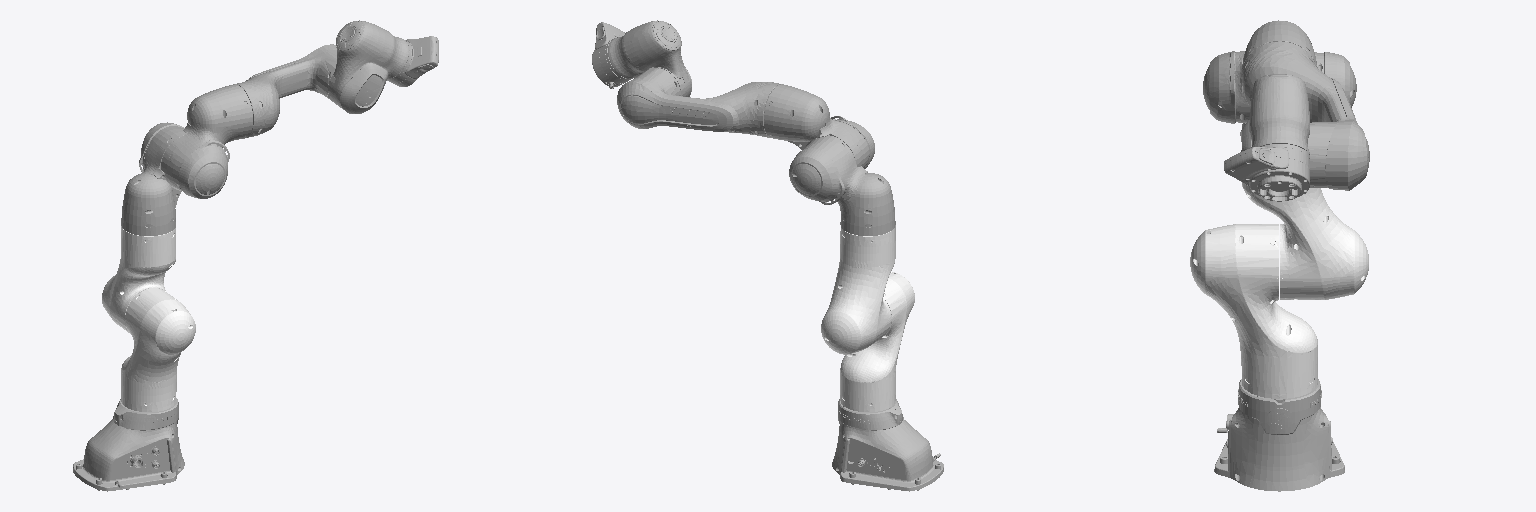
URDF robot description (FR3_UpperLimbRehab):
<?xml version="1.0" encoding="utf-8"?>
<!-- This URDF was automatically created by SolidWorks to URDF Exporter! Originally created by [author] ([email redacted]) 
     Commit Version: 1.6.0-4-g7f85cfe  Build Version: 1.6.7995.38578
     For more information, please see http://wiki.ros.org/sw_urdf_exporter -->
<robot
  name="FR3_UpperLimbRehab">
  <link
    name="FR3_Base_Link">
    <inertial>
      <origin
        xyz="0.041018 -0.00014 0.049974"
        rpy="0 0 0" />
      <mass
        value="0.62977" />
      <inertia
        ixx="0.00315"
        ixy="8.2904E-07"
        ixz="0.00015"
        iyy="0.00388"
        iyz="8.2299E-06"
        izz="0.004285" />
    </inertial>
    <visual>
      <origin
        xyz="0 0 0"
        rpy="0 0 0" />
      <geometry>
        <mesh
          filename="package://FR3_UpperLimbRehab/meshes/FR3_Base_Link.STL" />
      </geometry>
      <material
        name="">
        <color
          rgba="0.75294 0.75294 0.75294 1" />
      </material>
    </visual>
    <collision>
      <origin
        xyz="0 0 0"
        rpy="0 0 0" />
      <geometry>
        <mesh
          filename="package://FR3_UpperLimbRehab/meshes/FR3_Base_Link.STL" />
      </geometry>
    </collision>
  </link>
  <link
    name="FR3_Link_1">
    <inertial>
      <origin
        xyz="0.003875 0.002081 -0.04762"
        rpy="0 0 0" />
      <mass
        value="4.970684" />
      <inertia
        ixx="0.70337"
        ixy="-0.00013900"
        ixz="0.0067720"
        iyy="0.70661"
        iyz="0.019169"
        izz="0.0091170" />
    </inertial>
    <visual>
      <origin
        xyz="0 0 0"
        rpy="0 0 0" />
      <geometry>
        <mesh
          filename="package://FR3_UpperLimbRehab/meshes/FR3_Link_1.STL" />
      </geometry>
      <material
        name="">
        <color
          rgba="1 1 1 1" />
      </material>
    </visual>
    <collision>
      <origin
        xyz="0 0 0"
        rpy="0 0 0" />
      <geometry>
        <mesh
          filename="package://FR3_UpperLimbRehab/meshes/FR3_Link_1.STL" />
      </geometry>
    </collision>
  </link>
  <joint
    name="RevoluteJoint_1"
    type="revolute">
    <origin
      xyz="0 0 0.333"
      rpy="0 0 0" />
    <parent
      link="FR3_Base_Link" />
    <child
      link="FR3_Link_1" />
    <axis
      xyz="0 0 1" />
    <limit
      lower="-2.7437"
      upper="2.7437"
      effort="87"
      velocity="2.62" />
  </joint>
  <link
    name="FR3_Link_2">
    <inertial>
      <origin
        xyz="-0.003141 -0.02872 0.003495"
        rpy="0 0 0" />
      <mass
        value="0.646926" />
      <inertia
        ixx="0.0079620"
        ixy="-3.9250E-03"
        ixz="1.0254E-02"
        iyy="2.8110E-02"
        iyz="7.04E-04"
        izz="2.5995E-02" />
    </inertial>
    <visual>
      <origin
        xyz="0 0 0"
        rpy="0 0 0" />
      <geometry>
        <mesh
          filename="package://FR3_UpperLimbRehab/meshes/FR3_Link_2.STL" />
      </geometry>
      <material
        name="">
        <color
          rgba="1 1 1 1" />
      </material>
    </visual>
    <collision>
      <origin
        xyz="0 0 0"
        rpy="0 0 0" />
      <geometry>
        <mesh
          filename="package://FR3_UpperLimbRehab/meshes/FR3_Link_2.STL" />
      </geometry>
    </collision>
  </link>
  <joint
    name="RevoluteJoint_2"
    type="revolute">
    <origin
      xyz="0 0 0"
      rpy="-1.5708 0 0" />
    <parent
      link="FR3_Link_1" />
    <child
      link="FR3_Link_2" />
    <axis
      xyz="0 0 1" />
    <limit
      lower="-1.7837"
      upper="1.7837"
      effort="87"
      velocity="2.62" />
  </joint>
  <link
    name="FR3_Link_3">
    <inertial>
      <origin
        xyz="2.7518E-02 3.9252E-02 -6.6502E-02"
        rpy="0 0 0" />
      <mass
        value="3.228604" />
      <inertia
        ixx="3.7242E-02"
        ixy="-4.7610E-03"
        ixz="-1.1396E-02"
        iyy="3.6155E-02"
        iyz="-1.2805E-02"
        izz="1.0830E-02" />
    </inertial>
    <visual>
      <origin
        xyz="0 0 0"
        rpy="0 0 0" />
      <geometry>
        <mesh
          filename="package://FR3_UpperLimbRehab/meshes/FR3_Link_3.STL" />
      </geometry>
      <material
        name="">
        <color
          rgba="0.75294 0.75294 0.75294 1" />
      </material>
    </visual>
    <collision>
      <origin
        xyz="0 0 0"
        rpy="0 0 0" />
      <geometry>
        <mesh
          filename="package://FR3_UpperLimbRehab/meshes/FR3_Link_3.STL" />
      </geometry>
    </collision>
  </link>
  <joint
    name="RevoluteJoint_3"
    type="revolute">
    <origin
      xyz="0 -0.316 0"
      rpy="1.5708 0 0" />
    <parent
      link="FR3_Link_2" />
    <child
      link="FR3_Link_3" />
    <axis
      xyz="0 0 1" />
    <limit
      lower="-2.9007"
      upper="2.9007"
      effort="87"
      velocity="2.62" />
  </joint>
  <link
    name="FR3_Link_4">
    <inertial>
      <origin
        xyz="-5.317E-02 1.04419E-01 2.7454E-02"
        rpy="0 0 0" />
      <mass
        value="3.587895" />
      <inertia
        ixx="2.5853E-02"
        ixy="7.7960E-03"
        ixz="-1.3320E-03"
        iyy="1.9552E-02"
        iyz="8.6410E-03"
        izz="2.8323E-02" />
    </inertial>
    <visual>
      <origin
        xyz="0 0 0"
        rpy="0 0 0" />
      <geometry>
        <mesh
          filename="package://FR3_UpperLimbRehab/meshes/FR3_Link_4.STL" />
      </geometry>
      <material
        name="">
        <color
          rgba="0.75294 0.75294 0.75294 1" />
      </material>
    </visual>
    <collision>
      <origin
        xyz="0 0 0"
        rpy="0 0 0" />
      <geometry>
        <mesh
          filename="package://FR3_UpperLimbRehab/meshes/FR3_Link_4.STL" />
      </geometry>
    </collision>
  </link>
  <joint
    name="RevoluteJoint_4"
    type="revolute">
    <origin
      xyz="0.0825 0 0"
      rpy="1.5708 0 0" />
    <parent
      link="FR3_Link_3" />
    <child
      link="FR3_Link_4" />
    <axis
      xyz="0 0 1" />
    <limit
      lower="-3.0421"
      upper="-0.1518"
      effort="87"
      velocity="2.62" />
  </joint>
  <link
    name="FR3_Link_5">
    <inertial>
      <origin
        xyz="-1.1953E-02 4.1065E-02 -3.8437E-02"
        rpy="0 0 0" />
      <mass
        value="1.225946" />
      <inertia
        ixx="3.5549E-02"
        ixy="-2.1170E-03"
        ixz="-4.0370E-03"
        iyy="2.9474E-02"
        iyz="2.2900E-04"
        izz="8.6270E-03" />
    </inertial>
    <visual>
      <origin
        xyz="0 0 0"
        rpy="0 0 0" />
      <geometry>
        <mesh
          filename="package://FR3_UpperLimbRehab/meshes/FR3_Link_5.STL" />
      </geometry>
      <material
        name="">
        <color
          rgba="0.75294 0.75294 0.75294 1" />
      </material>
    </visual>
    <collision>
      <origin
        xyz="0 0 0"
        rpy="0 0 0" />
      <geometry>
        <mesh
          filename="package://FR3_UpperLimbRehab/meshes/FR3_Link_5.STL" />
      </geometry>
    </collision>
  </link>
  <joint
    name="RevoluteJoint_5"
    type="revolute">
    <origin
      xyz="-0.0825 0.384 0.000"
      rpy="-1.5708 0 0" />
    <parent
      link="FR3_Link_4" />
    <child
      link="FR3_Link_5" />
    <axis
      xyz="0 0 1" />
    <limit
      lower="-2.8065"
      upper="2.8065"
      effort="12"
      velocity="5.26" />
  </joint>
  <link
    name="FR3_Link_6">
    <inertial>
      <origin
        xyz="6.0149E-02 -1.4117E-02 -1.0517E-02"
        rpy="0 0 0" />
      <mass
        value="1.666555" />
      <inertia
        ixx="1.9640E-03"
        ixy="1.0900E-04"
        ixz="-1.1580E-03"
        iyy="4.3540E-03"
        iyz="3.4100E-04"
        izz="5.4330E-03" />
    </inertial>
    <visual>
      <origin
        xyz="0 0 0"
        rpy="0 0 0" />
      <geometry>
        <mesh
          filename="package://FR3_UpperLimbRehab/meshes/FR3_Link_6.STL" />
      </geometry>
      <material
        name="">
        <color
          rgba="0.75294 0.75294 0.75294 1" />
      </material>
    </visual>
    <collision>
      <origin
        xyz="0 0 0"
        rpy="0 0 0" />
      <geometry>
        <mesh
          filename="package://FR3_UpperLimbRehab/meshes/FR3_Link_6.STL" />
      </geometry>
    </collision>
  </link>
  <joint
    name="RevoluteJoint_6"
    type="revolute">
    <origin
      xyz="0 0 0"
      rpy="1.5708 0 0" />
    <parent
      link="FR3_Link_5" />
    <child
      link="FR3_Link_6" />
    <axis
      xyz="0 0 1" />
    <limit
      lower="0.5445"
      upper="4.5169"
      effort="12"
      velocity="4.18" />
  </joint>
  <link
    name="FR3_Link_7">
    <inertial>
      <origin
        xyz="1.0517E-02 -4.252E-03 6.1597E-02"
        rpy="0 0 0" />
      <mass
        value="0.735522" />
      <inertia
        ixx="1.2516e-02"
        ixy="-4.2800e-04"
        ixz="-1.1960e-03"
        iyy="1.0027e-02"
        iyz="-7.4100e-04"
        izz="4.8150e-03" />
    </inertial>
    <visual>
      <origin
        xyz="0 0 0"
        rpy="0 0 0" />
      <geometry>
        <mesh
          filename="package://FR3_UpperLimbRehab/meshes/FR3_Link_7.STL" />
      </geometry>
      <material
        name="">
        <color
          rgba="0.75294 0.75294 0.75294 1" />
      </material>
    </visual>
    <collision>
      <origin
        xyz="0 0 0"
        rpy="0 0 0" />
      <geometry>
        <mesh
          filename="package://FR3_UpperLimbRehab/meshes/FR3_Link_7.STL" />
      </geometry>
    </collision>
  </link>
  <joint
    name="RevoluteJoint_7"
    type="revolute">
    <origin
      xyz="0.088 0 0"
      rpy="1.5708 0 0" />
    <parent
      link="FR3_Link_6" />
    <child
      link="FR3_Link_7" />
    <axis
      xyz="0 0 1" />
    <limit
      lower="-3.0159"
      upper="3.0159"
      effort="12"
      velocity="5.26" />
  </joint>
  <link
    name="UpperLimbRehab_EndEffector">
    <inertial>
      <origin
        xyz="0.03149 0 0.0616"
        rpy="0 0 0" />
      <mass
        value="0.425" />
      <inertia
        ixx="5.365E-04"
        ixy="1.357E-04"
        ixz="0.001E-04"
        iyy="16.854E-04"
        iyz="0"
        izz="16.993E-04" />
    </inertial>
    <visual>
      <origin
        xyz="0 0 0"
        rpy="0 0 0" />
      <geometry>
        <mesh
          filename="package://FR3_UpperLimbRehab/meshes/UpperLimbRehab_EndEffector.STL" />
      </geometry>
      <material
        name="">
        <color
          rgba="0.75294 0.75294 0.75294 1" />
      </material>
    </visual>
    <collision>
      <origin
        xyz="0 0 0"
        rpy="0 0 0" />
      <geometry>
        <mesh
          filename="package://FR3_UpperLimbRehab/meshes/UpperLimbRehab_EndEffector.STL" />
      </geometry>
    </collision>
  </link>
  <joint
    name="Fixed"
    type="fixed">
    <origin
      xyz="0 0 0.107"
      rpy="0 0 2.35619" />
    <parent
      link="FR3_Link_7" />
    <child
      link="UpperLimbRehab_EndEffector" />
    <axis
      xyz="0 0 1" />
    <limit
      lower="0"
      upper="0"
      effort="0"
      velocity="0" />
  </joint>
</robot>

--- Render facts (derived) ---
Views: 3 orthographic renders of the robot side by side, from view 1: azimuth 30°, elevation 25°; view 2: azimuth 150°, elevation 25°; view 3: azimuth 270°, elevation 25°.
Model FR3_UpperLimbRehab with 9 links and 8 joints (7 revolute, 1 fixed), rooted at FR3_Base_Link, posed joints at zero except 2 at the middle of their limits (RevoluteJoint_4 = -1.6, RevoluteJoint_6 = 2.53).
Links seen in each view (by area): view 1: FR3_Base_Link, FR3_Link_1, FR3_Link_4, FR3_Link_6, FR3_Link_3, FR3_Link_5, FR3_Link_2, FR3_Link_7; view 2: FR3_Base_Link, FR3_Link_2, FR3_Link_5, FR3_Link_3, FR3_Link_1, FR3_Link_4, FR3_Link_6, FR3_Link_7; view 3: FR3_Link_1, FR3_Base_Link, FR3_Link_2, FR3_Link_5, FR3_Link_6, FR3_Link_4, FR3_Link_7, FR3_Link_3.
Boxes of the visible links, x1,y1,x2,y2 form: FR3_Base_Link: (73,398,184,491); FR3_Link_1: (121,288,195,411); FR3_Link_4: (161,84,252,198); FR3_Link_6: (328,20,408,113); FR3_Link_3: (121,122,185,235); FR3_Link_5: (237,44,336,137); FR3_Link_2: (102,226,175,332); FR3_Link_7: (387,36,438,86); FR3_Base_Link: (832,399,943,491); FR3_Link_2: (821,225,895,354); FR3_Link_5: (617,68,780,137); FR3_Link_3: (789,135,895,235); FR3_Link_1: (840,272,914,411); FR3_Link_4: (764,84,874,168); FR3_Link_6: (608,20,691,96); FR3_Link_7: (592,22,630,88); FR3_Link_1: (1190,224,1317,398); FR3_Base_Link: (1214,379,1344,491); FR3_Link_2: (1242,183,1368,299); FR3_Link_5: (1242,41,1369,190); FR3_Link_6: (1240,74,1309,154); FR3_Link_4: (1203,20,1317,123); FR3_Link_7: (1224,144,1309,201); FR3_Link_3: (1242,52,1356,127).
Size in the robot's own frame: 0.7984 by 0.2593 by 0.8648 metres.
Meshes: 9 distinct files referenced, 8 mesh visuals loaded (8 binary STL); not drawn: 1 (reference not matched to a file when rendering).